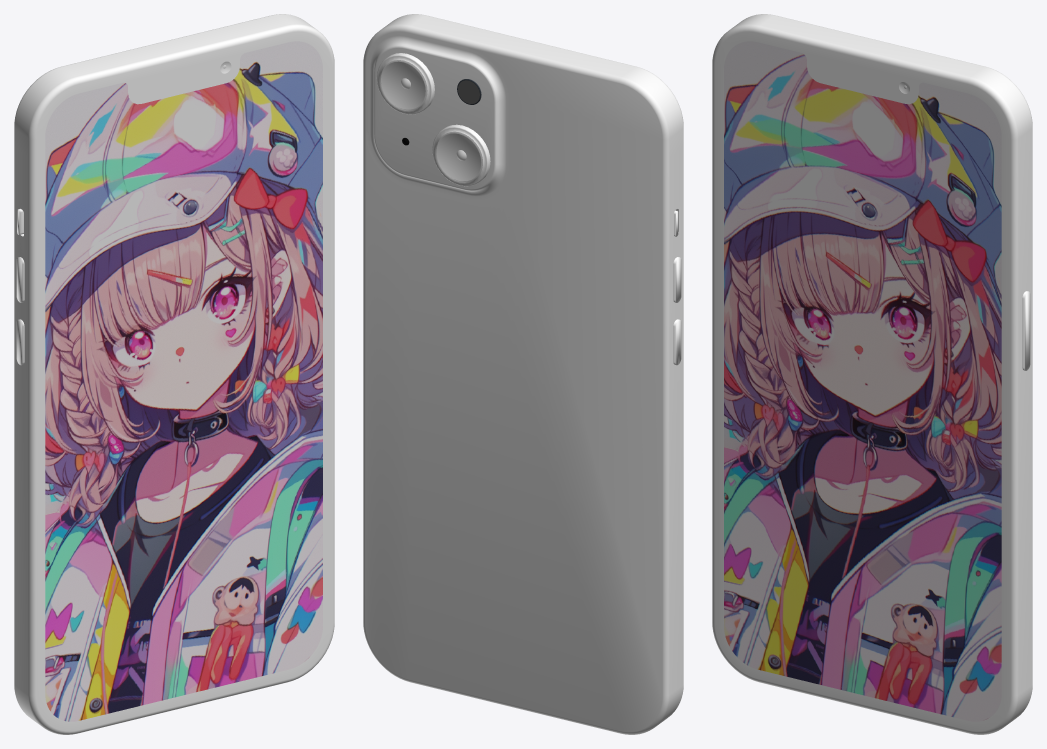
The model's file is iPhone2.glb.
The picture shows the model from 3 angles, left to right: view 1: azimuth 30°, elevation 25°; view 2: azimuth 150°, elevation 25°; view 3: azimuth 330°, elevation 25°; orthographic projection.
Parts seen in each view (by area): view 1: 本体, 音量ボタン; view 2: 本体, カメラ_背面, 音量ボタン; view 3: 本体, 電源.
Part boxes in pixels (x1,y1,x2,y2): 本体: (14,14,334,734); 音量ボタン: (16,257,24,365); 本体: (363,14,683,734); カメラ_背面: (376,53,490,186); 音量ボタン: (673,257,681,365); 本体: (712,14,1032,734); 電源: (1022,291,1030,370).
Bounding box in the file's own units: 0.7245 × 1.47 × 0.1076.
Materials: 12 (1 with a texture image).
